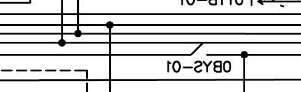115_ds: (190, 44, 209, 56)
